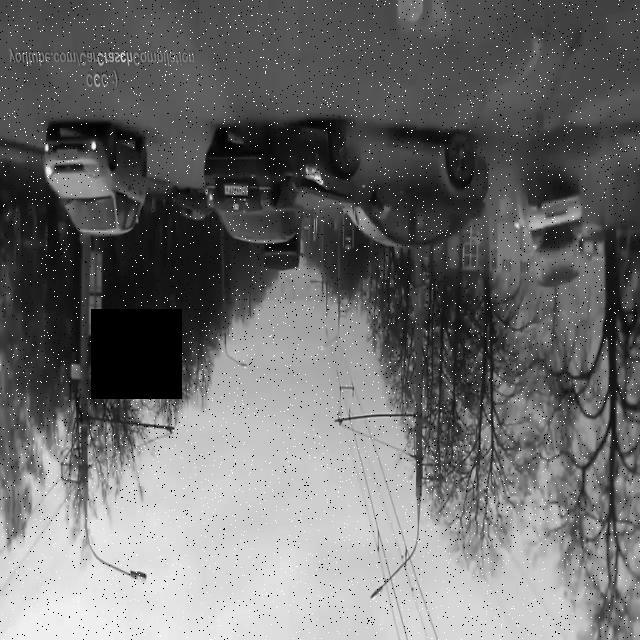moderate: (201, 117, 491, 250)
